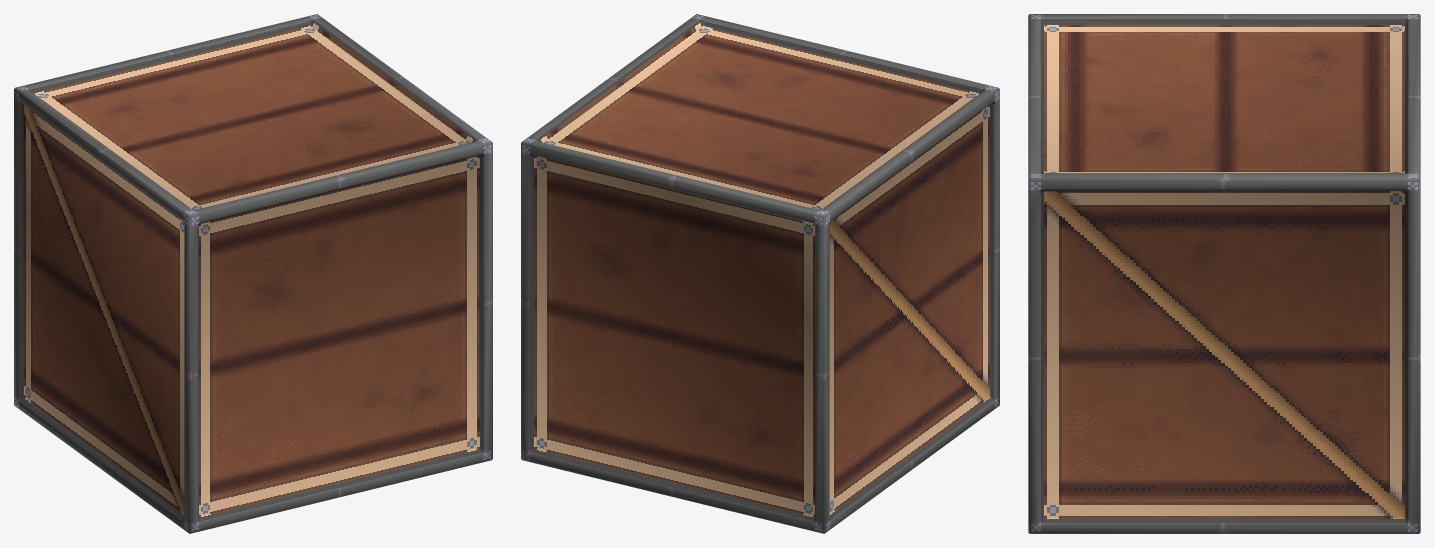
The model's file is crate.gltf.
3 views of the same model, side by side, from view 1: azimuth 30°, elevation 25°; view 2: azimuth 150°, elevation 25°; view 3: azimuth 270°, elevation 25° (orthographic). The views are drawn at different scales.
Parts seen in each view (by area): view 1: Cube; view 2: Cube; view 3: Cube.
Boxes of the visible parts, bbox=[...] form: Cube: bbox=[14, 14, 492, 533]; Cube: bbox=[521, 14, 999, 533]; Cube: bbox=[1028, 14, 1420, 533].
Size of the model in its own units: 2 by 2 by 2.
Materials: 1 (1 with a texture image).
